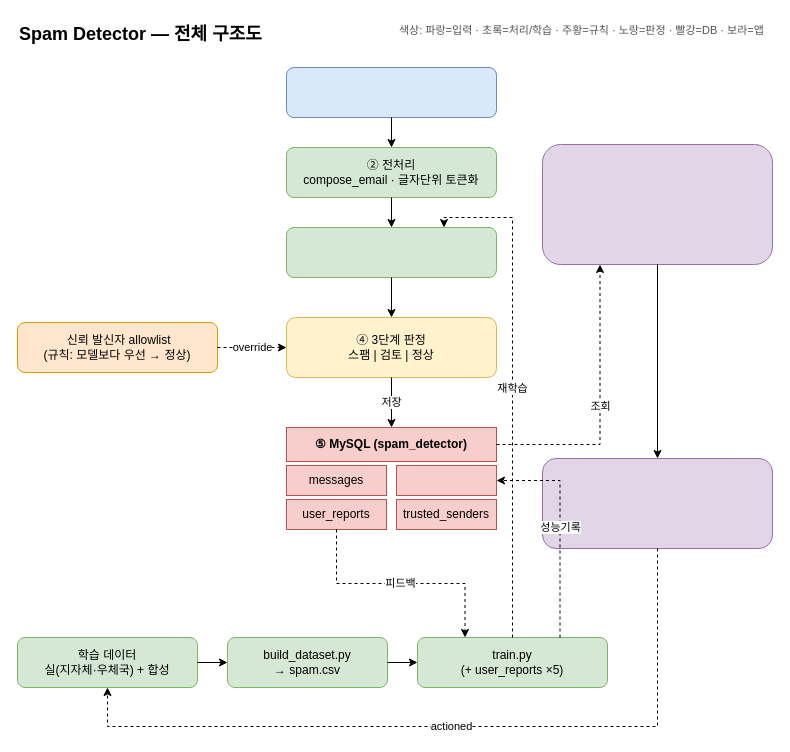
The diagram is 790 pixels wide and 752 high, and some of its shapes have lost their labels. The shapes that lost their labels are listed below. From the top down, each one's centre as x and y in pixels, then its label:
(x=391, y=92): ① 입력 수동 4필드 · Gmail 가져오기
(x=657, y=204): 데스크탑 앱 (트레이 상주) 홈 · 기록 · Gmail · 신뢰발신자 3단계 색상 표시 / 통계
(x=391, y=252): ③ 양방향 LSTM (한국어) F1 0.968
(x=446, y=480): training_runs
(x=657, y=503): Gmail 조치 (사용자 확인) 🗑️ 삭제 🚫 스팸 ✅ 스팸아님 → 휴지통/스팸함, 목록서 숨김
